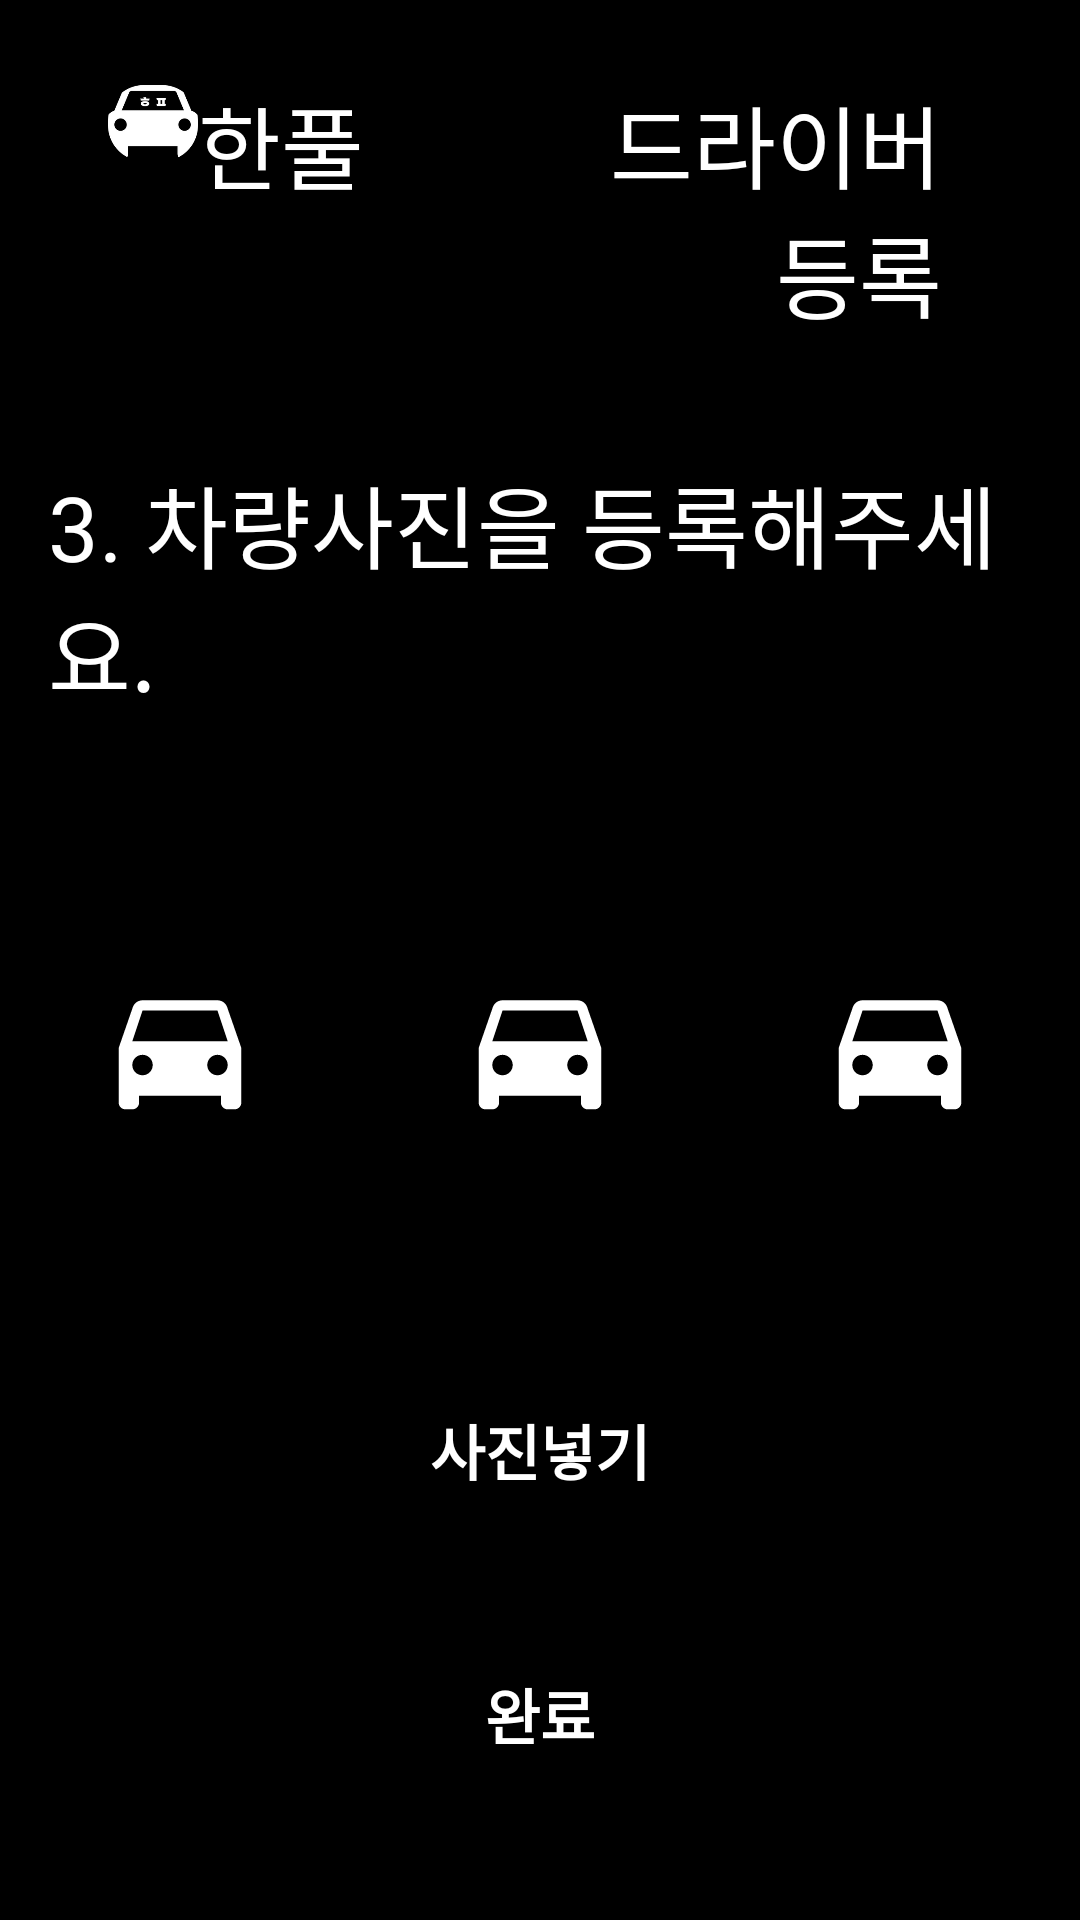

Point at icon controls on the screen. Image size 1080x1920, points as (x,y).
car: (180,1055), (540,1055), (900,1055)
